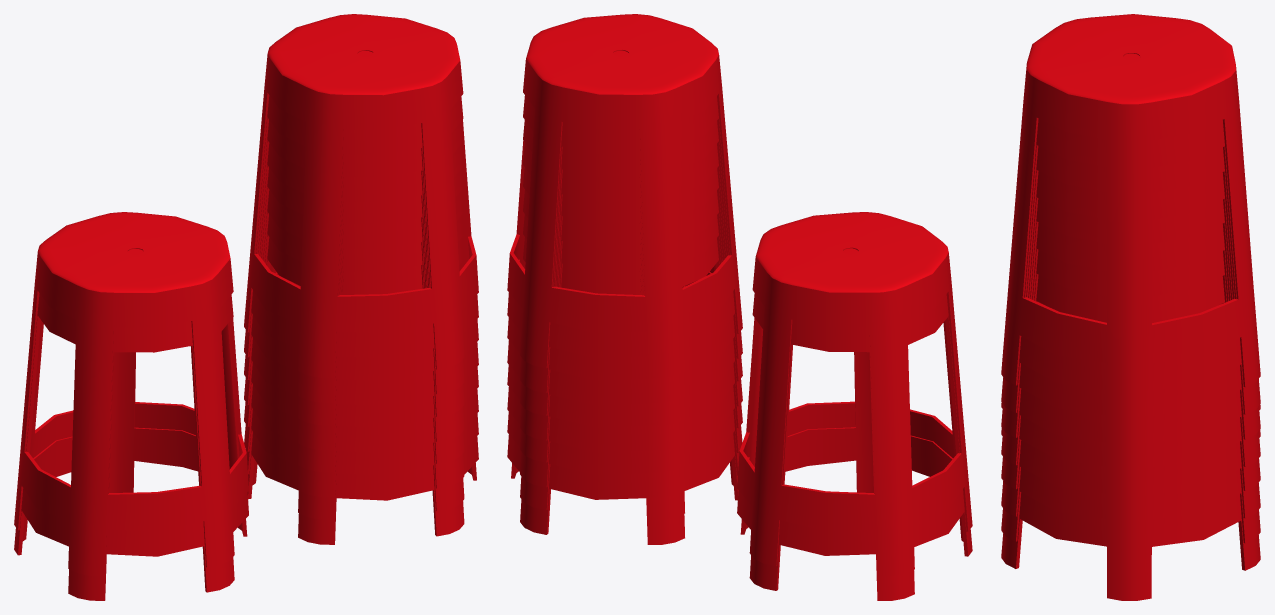
The model's file is KerusiMerahStacked.fbx.
3 renders of one model, left to right at view 1: azimuth 30°, elevation 25°; view 2: azimuth 150°, elevation 25°; view 3: azimuth 270°, elevation 25°, orthographic. The views are drawn at different scales.
Visible parts, largest first — view 1: stool.066; view 2: stool.066; view 3: stool.066.
Boxes of the visible parts, x1,y1,x2,y2 form: stool.066: [14, 14, 478, 600]; stool.066: [507, 14, 972, 600]; stool.066: [1001, 14, 1260, 600].
Bounding box in the file's own units: 122 × 119 × 57.22.
